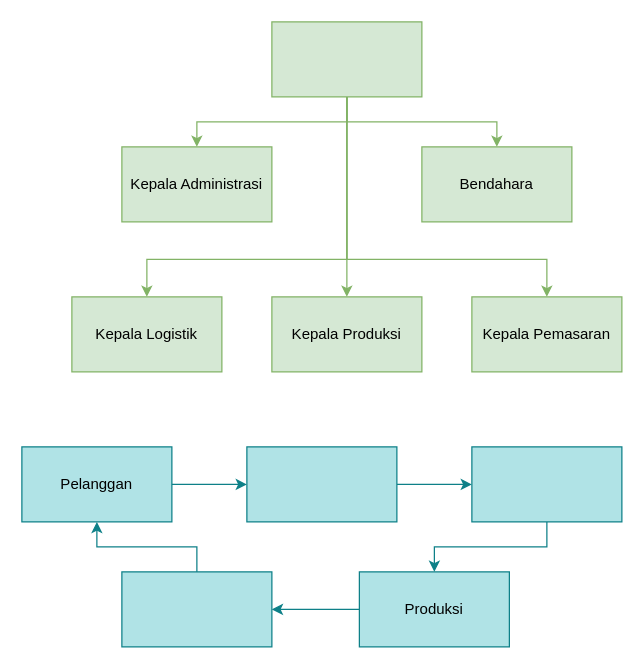
Some shapes in this 644 by 669 pixel diagram are drawn without their labels. The box of each missing label's shape, as (x1, y1, x2, y2) in pixels:
Adminstrasi: (471, 446, 622, 522)
Kepala Perusahaan: (271, 21, 422, 97)
Logistik: (121, 571, 272, 647)
Pemasaran: (246, 446, 397, 522)
